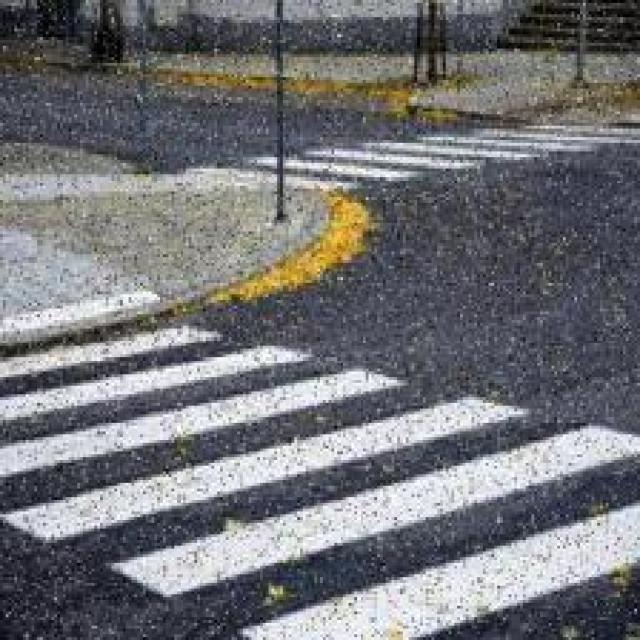walk-crossing: (0, 326, 637, 637), (170, 116, 639, 193)
